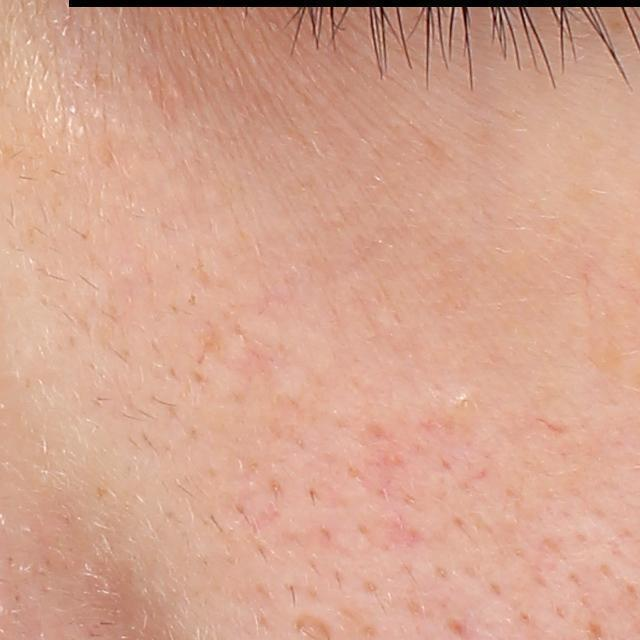comedo: (455, 392, 471, 410)
